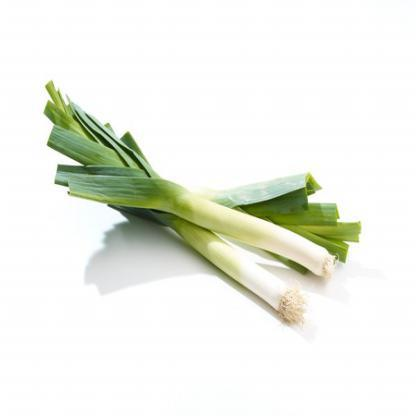green onion: (46, 66, 356, 332)
